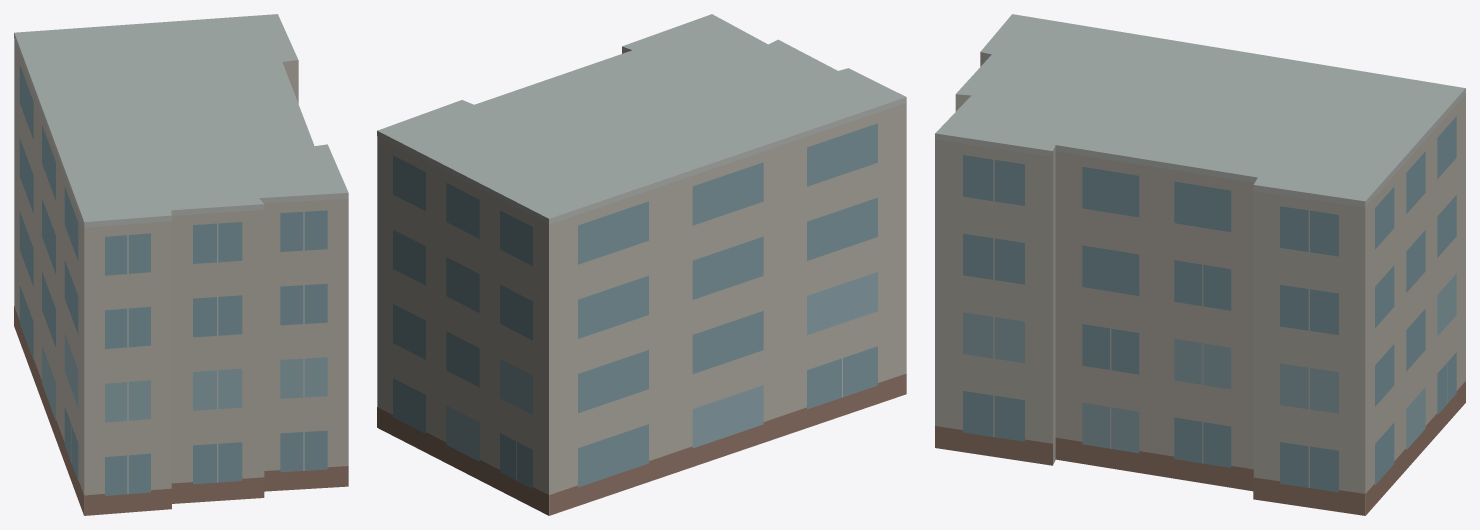
Rendered from survey-upis-32629572.glb.
The picture shows the model from 3 angles, left to right: view 1: azimuth 30°, elevation 25°; view 2: azimuth 150°, elevation 25°; view 3: azimuth 270°, elevation 25°; orthographic projection. The views are drawn at different scales.
Visible parts, largest first — view 1: survey-upis-32629572.tmp; view 2: survey-upis-32629572.tmp; view 3: survey-upis-32629572.tmp.
Boxes of the visible parts, x1,y1,x2,y2 form: survey-upis-32629572.tmp: (14, 14, 348, 515); survey-upis-32629572.tmp: (377, 14, 906, 515); survey-upis-32629572.tmp: (935, 14, 1465, 515).
Bounding box in the file's own units: 16.24 × 12.7 × 19.43.
